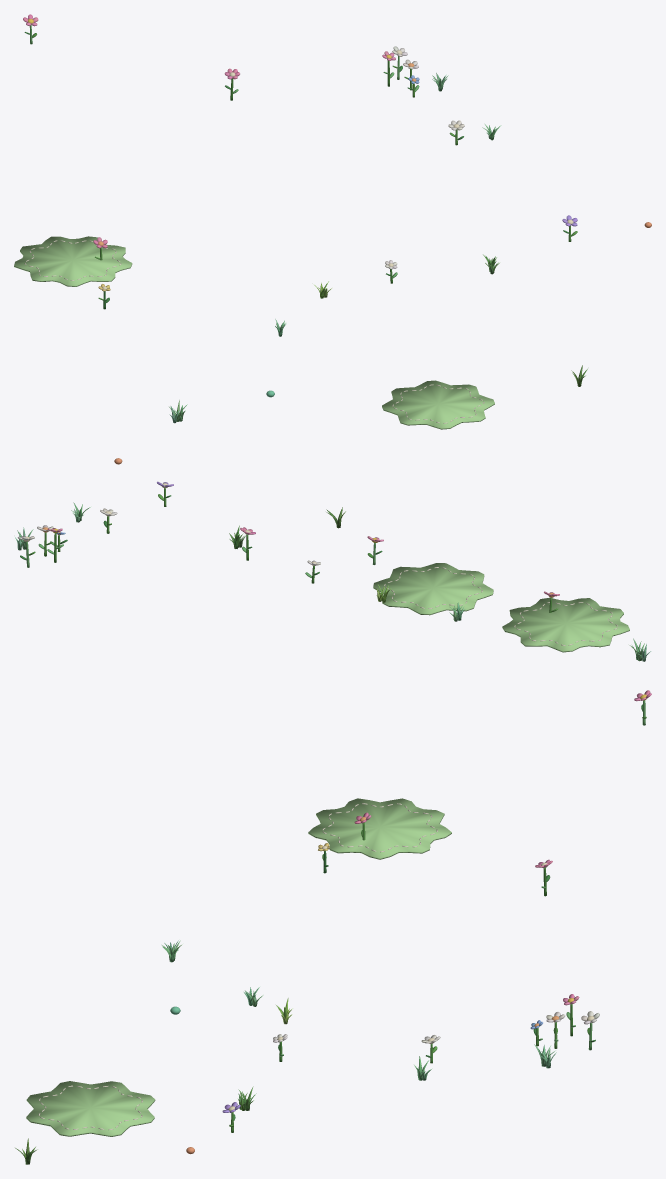
Rendered from W3_FloraRing_9_7.fbx.
3 renders of one model, top to bottom at view 1: azimuth 30°, elevation 25°; view 2: azimuth 150°, elevation 25°; view 3: azimuth 270°, elevation 25°, orthographic. The views are drawn at different scales.
Parts seen in each view (by area): view 1: W3_FloraRing_9_7; view 2: W3_FloraRing_9_7; view 3: W3_FloraRing_9_7.
Boxes of the visible parts, box(x1,y1,x2,y2) form: W3_FloraRing_9_7: box(14, 14, 651, 429); W3_FloraRing_9_7: box(15, 458, 651, 661); W3_FloraRing_9_7: box(15, 690, 651, 1164).
Size of the model in its own units: 4.09 by 1.87 by 3.43.
